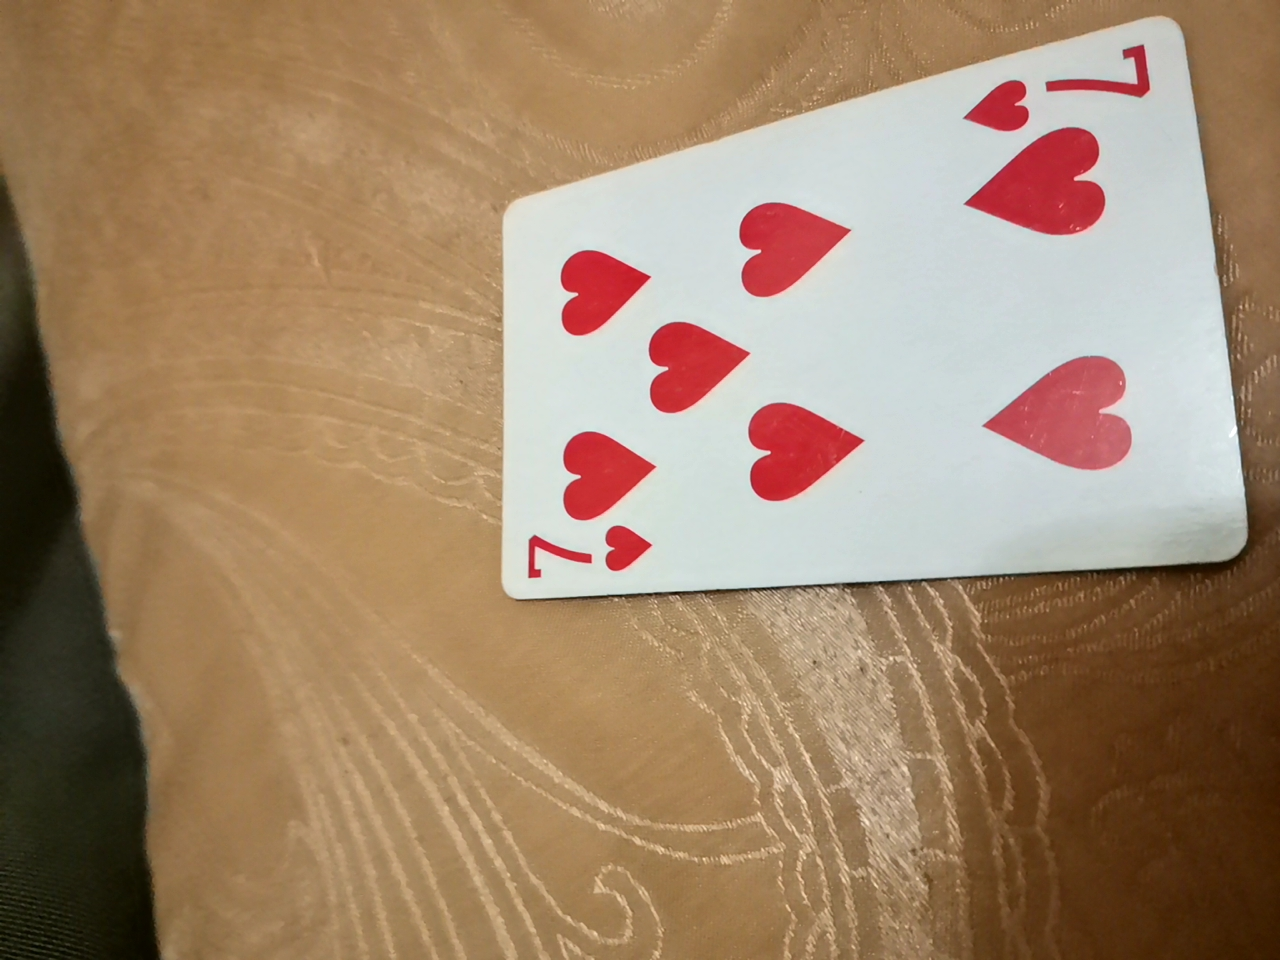hx 7: (499, 42, 1258, 606)
